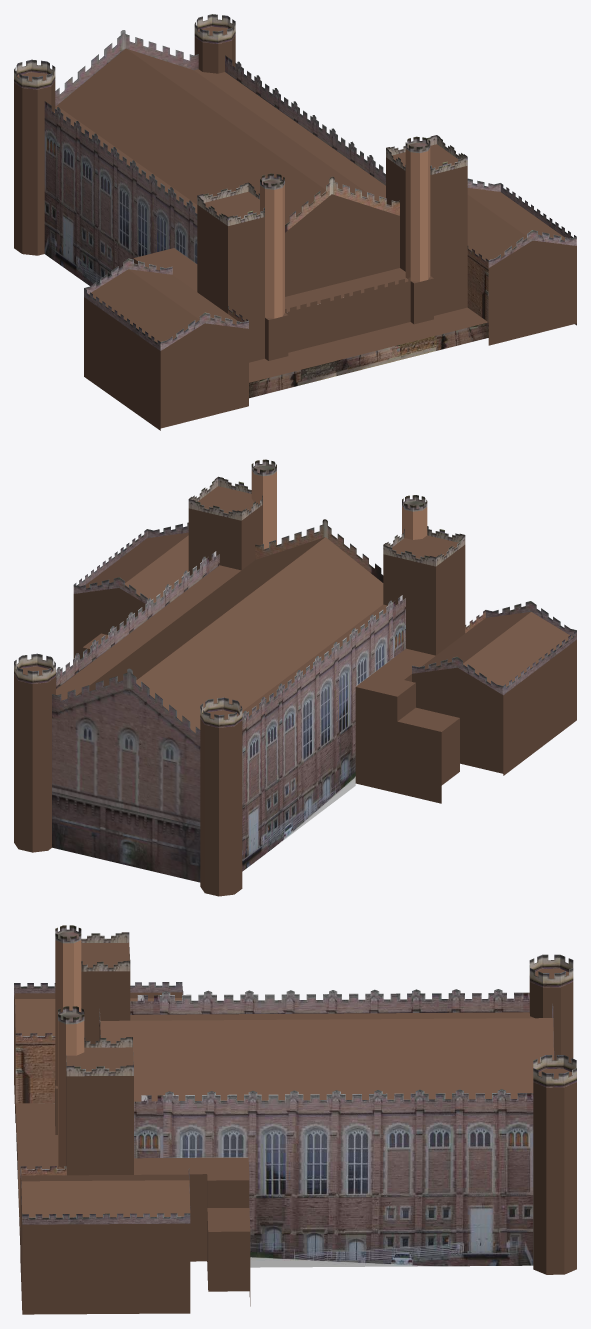
File: CU Macky.dae
3 renders of one model, top to bottom at view 1: azimuth 30°, elevation 25°; view 2: azimuth 150°, elevation 25°; view 3: azimuth 270°, elevation 25°, orthographic. The views are drawn at different scales.
Parts seen in each view (by area): view 1: Model, Wing12, Wing, Front_Tower_and_Turret2, Front_Tower_and_Turret1, Group_3 (×2), Group_4_1_2; view 2: Model, Wing12, Group_3 (×2), Group_4_1_2, Front_Tower_and_Turret2, Wing, Front_Tower_and_Turret1; view 3: Model, Wing, Group_3 (×2), Front_Tower_and_Turret1, Group_4, Front_Tower_and_Turret2, Wing12.
Part boxes in pixels (box(x1,y1,x2,y2)): Model: box(44, 30, 488, 398); Wing12: box(84, 258, 248, 430); Wing: box(467, 178, 576, 345); Front_Tower_and_Turret2: box(197, 173, 288, 362); Front_Tower_and_Turret1: box(386, 135, 467, 324); Group_3 (×2): box(14, 14, 235, 255); Group_4_1_2: box(133, 248, 197, 291); Model: box(52, 519, 405, 882); Wing12: box(412, 601, 576, 775); Group_3 (×2): box(14, 653, 242, 896); Group_4_1_2: box(355, 648, 459, 803); Front_Tower_and_Turret2: box(383, 495, 465, 655); Wing: box(73, 522, 188, 658); Front_Tower_and_Turret1: box(188, 459, 276, 575); Model: box(15, 989, 554, 1267); Wing: box(20, 1166, 190, 1314); Group_3 (×2): box(529, 954, 576, 1274); Front_Tower_and_Turret1: box(58, 1006, 133, 1175); Group_4: box(134, 1157, 250, 1306); Front_Tower_and_Turret2: box(55, 925, 130, 1134); Wing12: box(14, 982, 183, 1122).
Size of the model in its own units: 2745 by 2811 by 1363.
Materials: 22 (20 with a texture image).
